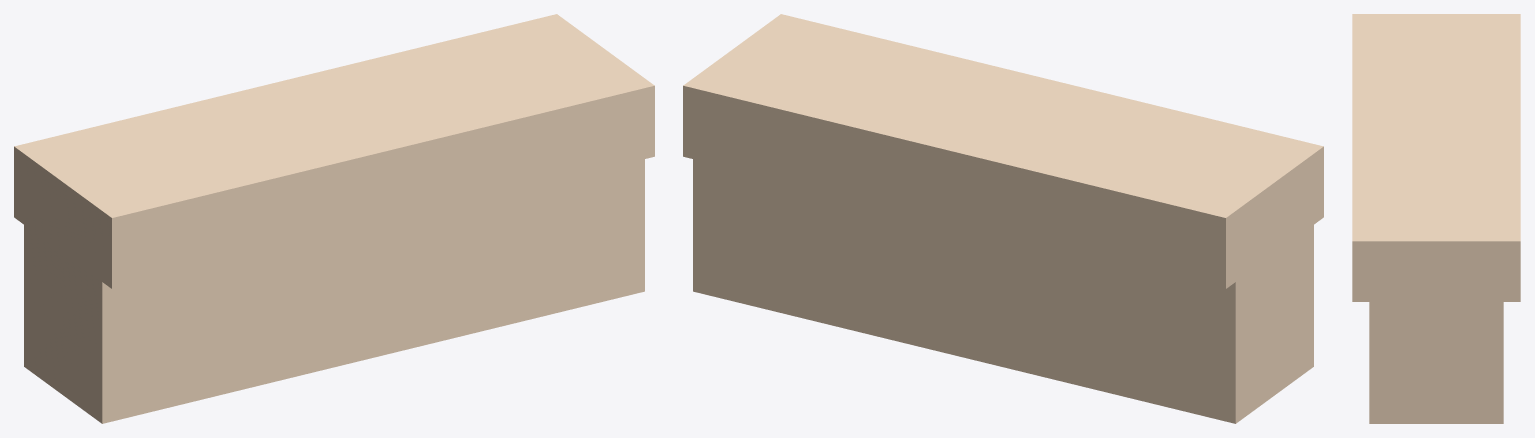
Rendered from Tiered_Retaining_Wall_Straight_1x1_Top.glb.
3 renders of one model, left to right at view 1: azimuth 30°, elevation 25°; view 2: azimuth 150°, elevation 25°; view 3: azimuth 270°, elevation 25°, orthographic. The views are drawn at different scales.
Visible parts, largest first — view 1: Tiered_Retaining_Wall_Straight_1x1_Top; view 2: Tiered_Retaining_Wall_Straight_1x1_Top; view 3: Tiered_Retaining_Wall_Straight_1x1_Top.
Part boxes in pixels (x1=…): Tiered_Retaining_Wall_Straight_1x1_Top: x1=14, y1=14, x2=654, y2=423; Tiered_Retaining_Wall_Straight_1x1_Top: x1=683, y1=14, x2=1323, y2=423; Tiered_Retaining_Wall_Straight_1x1_Top: x1=1352, y1=14, x2=1520, y2=423.
Bounding box in the file's own units: 100 × 37.5 × 31.25.
